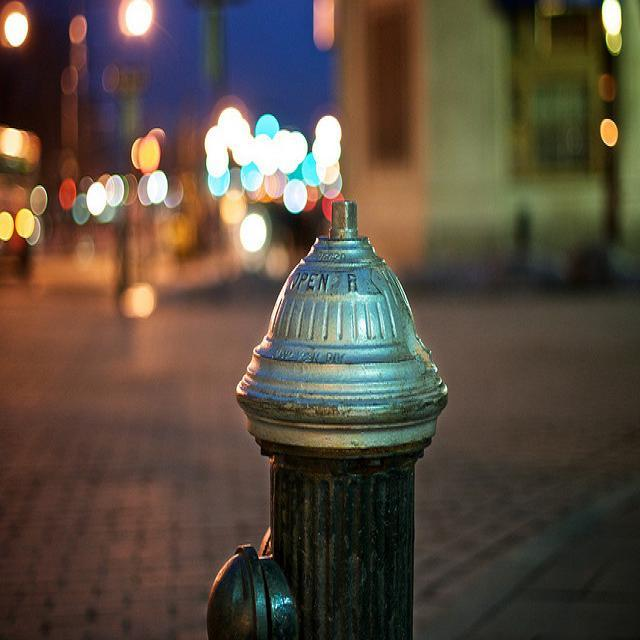fire_hydrant: (205, 200, 448, 630)
